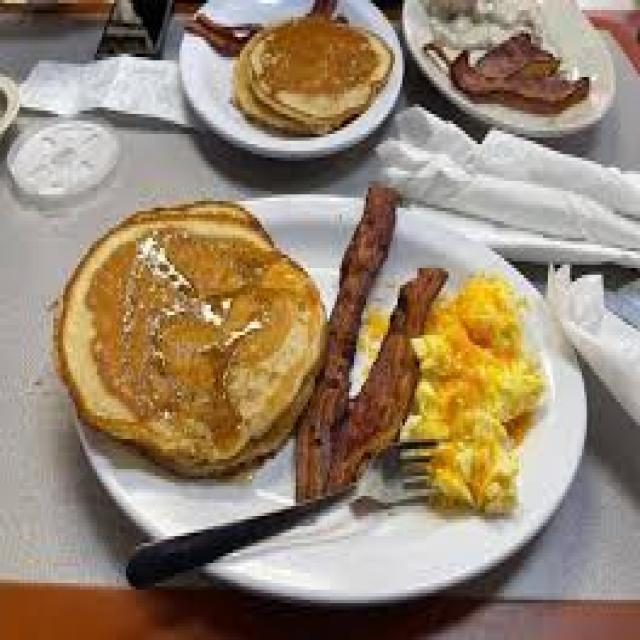Omelette: (408, 258, 550, 509)
Pancakes: (53, 191, 325, 476), (228, 17, 397, 127)
